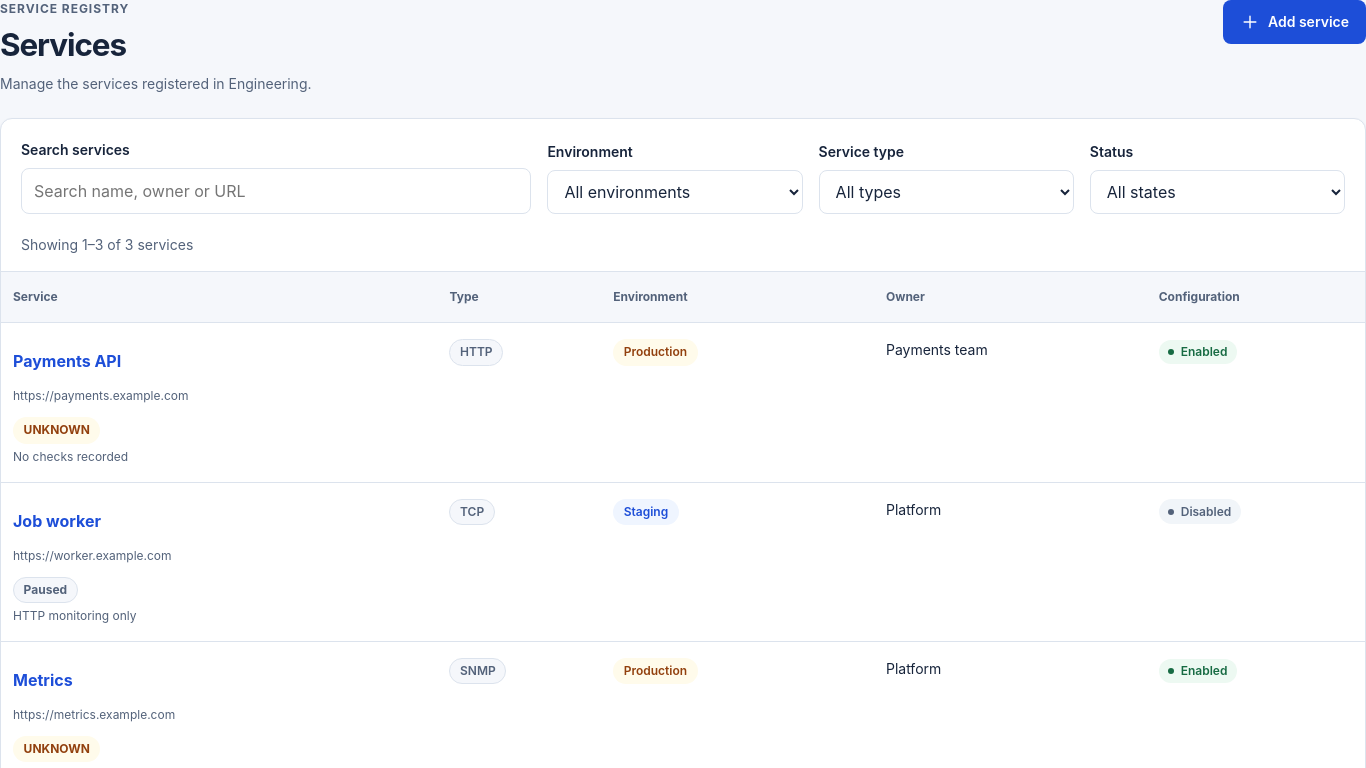
Test case: the Disabled filter uses enabled=false and never reports health
Select "Disabled" in the dropdown labelled "Status" at (1217, 192), box [1090,170,1345,214]
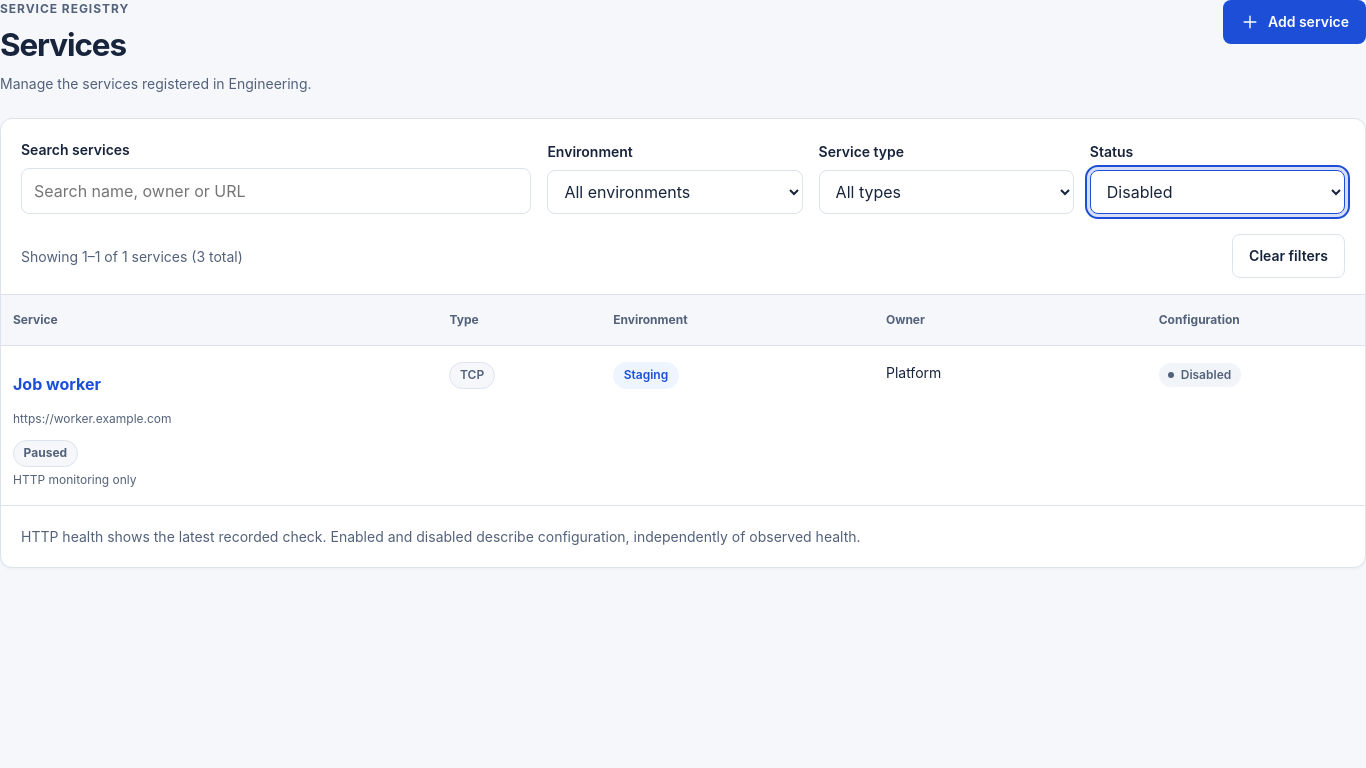
Expected: the link "Job worker" is shown, [13,374,101,394]
Expected: the message shows "1 of 1 services", [21,248,187,265]
